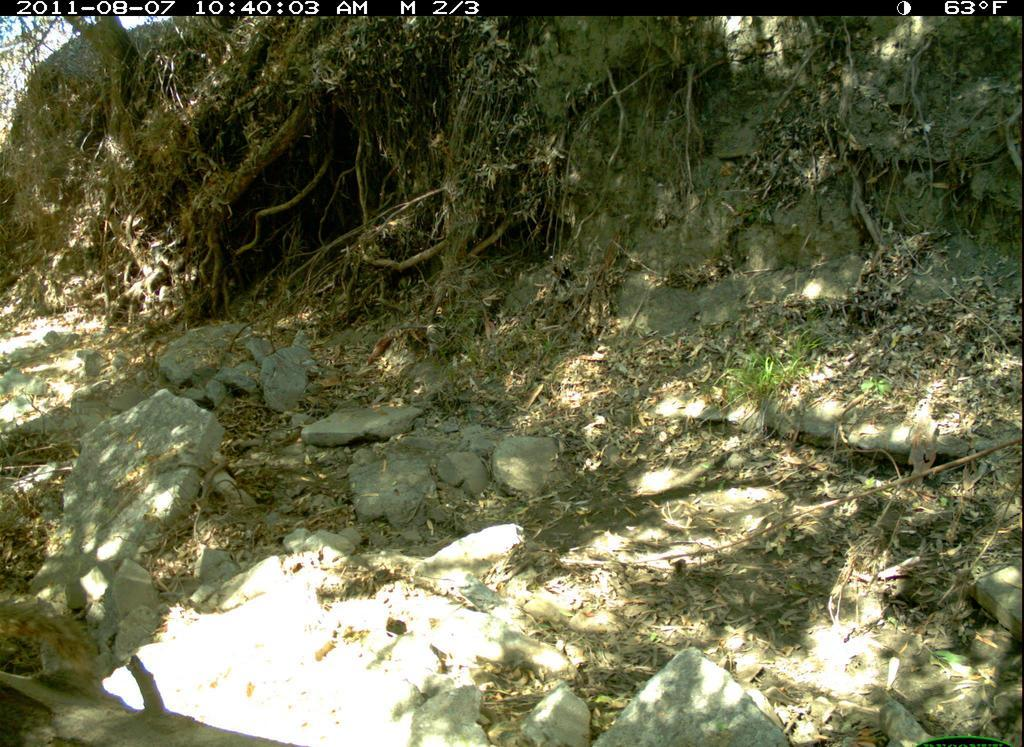squirrel: (6, 587, 102, 674)
